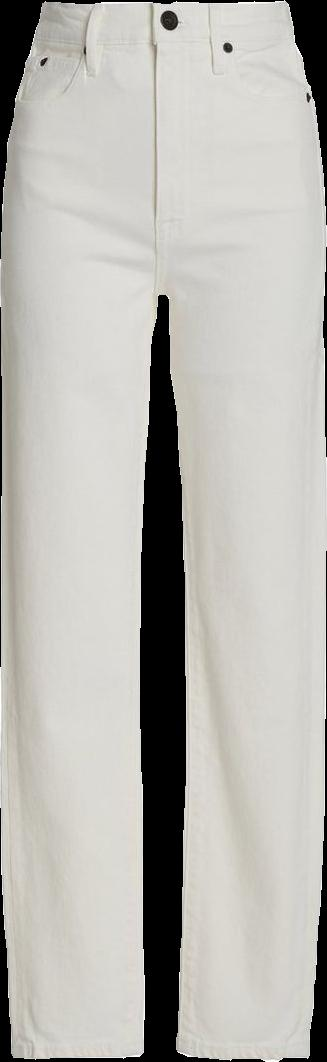Hemline: (10, 1037, 147, 1060), (171, 1040, 314, 1061)
Pantleg: (151, 0, 326, 1060), (1, 0, 157, 1058)
Waistline: (26, 37, 298, 61), (37, 0, 293, 19)
